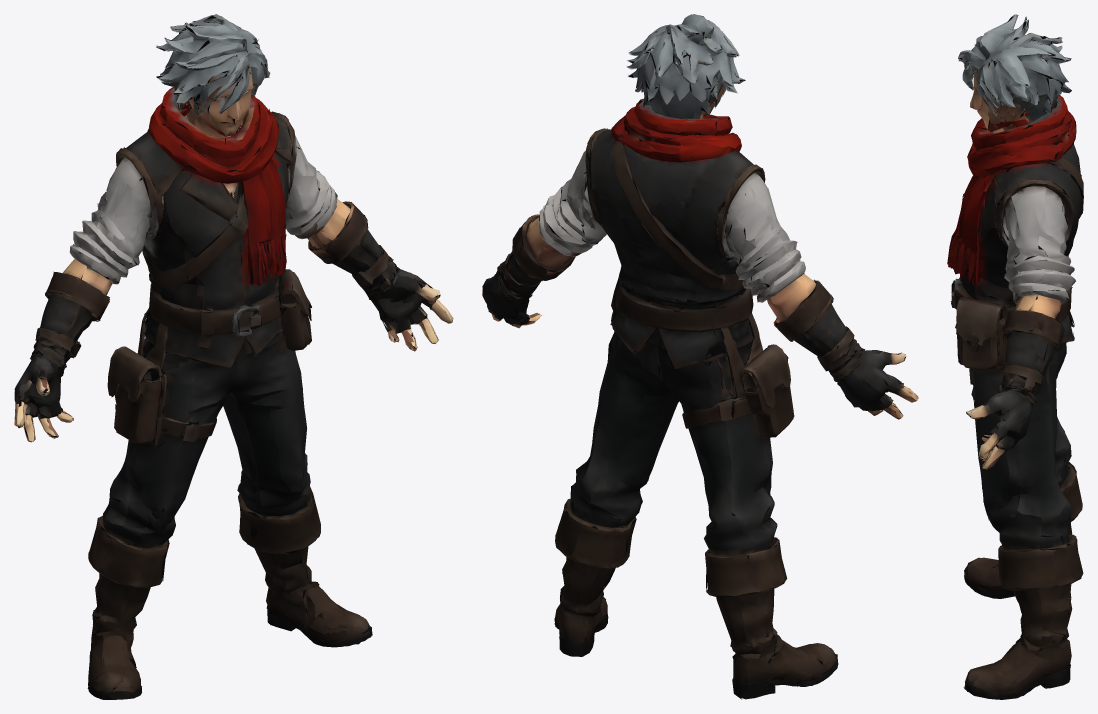
3 renders of one model, left to right at view 1: azimuth 30°, elevation 25°; view 2: azimuth 150°, elevation 25°; view 3: azimuth 270°, elevation 25°, orthographic. The views are drawn at different scales.
Visible parts, largest first — view 1: geometry_0.001; view 2: geometry_0.001; view 3: geometry_0.001.
Part boxes in pixels (x1,y1,x2,y2): geometry_0.001: (14, 14, 453, 699); geometry_0.001: (482, 14, 918, 699); geometry_0.001: (947, 14, 1083, 699).
Size of the model in its own units: 0.7141 by 0.9994 by 0.2023.
1 material, 1 textured.
